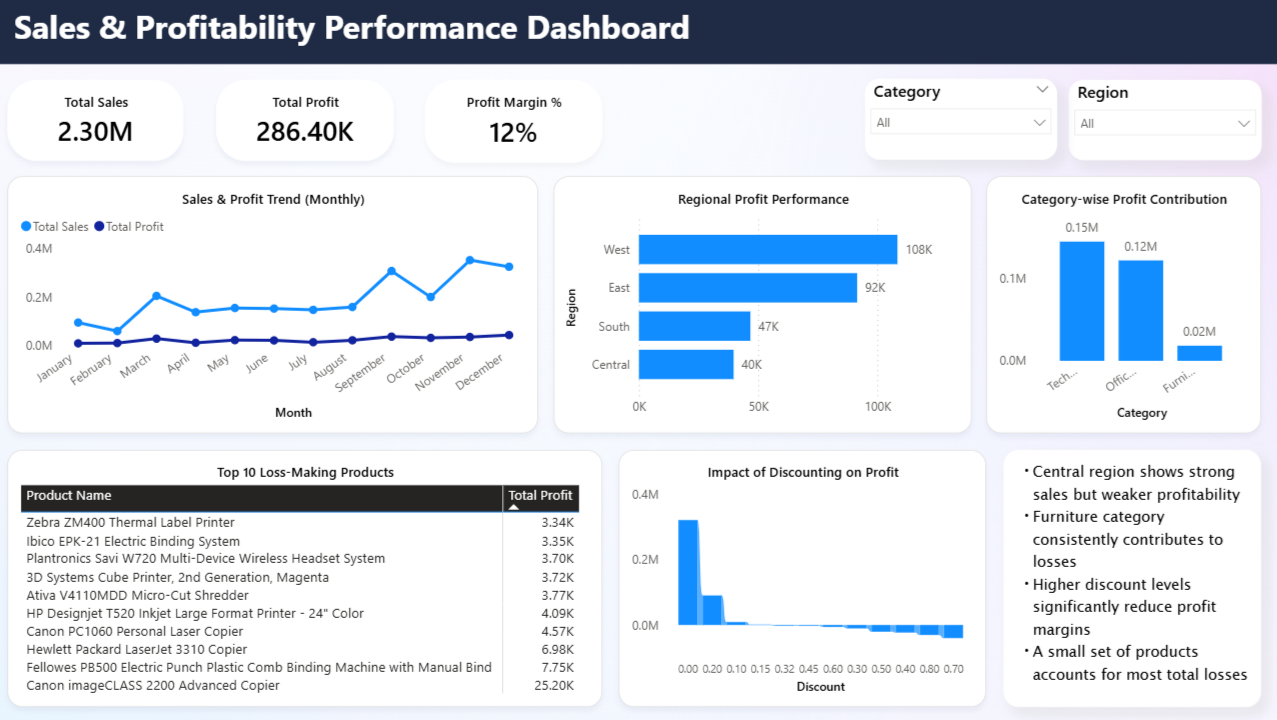

Layout of this report page (visuals, bound fields, positions):
{"tool":"powerbi","page":{"name":"sales_profitability_dashboard","canvas":[1280,720],"ordinal":0},"visuals":[{"type":"card","title":"Total Sales","fields":{"Values":["clean_superstore.Total Sales"]},"box":[16.2,79.6,175.4,80.9],"z":0},{"type":"card","title":"Total Profit","fields":{"Values":["clean_superstore.Total Profit"]},"box":[223.9,79.6,176.6,80.9],"z":1000},{"type":"card","title":"Profit Margin %","fields":{"Values":["clean_superstore.Profit Margin %"]},"box":[431.7,79.6,176.6,82.1],"z":2000},{"type":"lineChart","title":"Sales & Profit Trend (Monthly)","fields":{"Category":["clean_superstore.Order Date.Variation.Date Hierarchy.Month"],"Y":["clean_superstore.Total Sales","clean_superstore.Total Profit"]},"box":[16,176,528,256],"z":3000},{"type":"clusteredBarChart","title":"Regional Profit Performance","fields":{"Category":["clean_superstore.Region","clean_superstore.Sales"],"Y":["clean_superstore.Total Profit"]},"box":[560,176,416,256],"z":4000},{"type":"columnChart","title":"Category-wise Profit Contribution","fields":{"Category":["clean_superstore.Category"],"Y":["clean_superstore.Total Profit"]},"box":[990.2,175.4,273.7,256.3],"z":5000},{"type":"tableEx","title":"Top 10 Loss-Making Products","fields":{"Values":["clean_superstore.Product Name","clean_superstore.Total Profit"]},"box":[16,448,592,256],"z":6000},{"type":"columnChart","title":"Impact of Discounting on Profit","fields":{"Category":["clean_superstore.Discount"],"Y":["clean_superstore.Total Profit"]},"box":[624.5,447.8,365.7,256.3],"z":7000},{"type":"textbox","box":[1007.6,447.8,256.3,256.3],"z":8000},{"type":"slicer","fields":{"Values":["clean_superstore.Region"]},"box":[1072,80,192,80],"z":9000},{"type":"slicer","fields":{"Values":["clean_superstore.Category"]},"box":[869.5,78.4,191.6,80.9],"z":10000},{"type":"textbox","box":[0,0,1280,64],"z":11000}]}

Visuals, with their boxes in screenshot pixels (x1, y1, x2, y2), scaled from the page's 1280x720 canvas onto the 1277x720 screenshot:
"Total Sales" card: 16, 80, 191, 160
"Total Profit" card: 223, 80, 400, 160
"Profit Margin %" card: 431, 80, 607, 162
"Sales & Profit Trend (Monthly)" lineChart: 16, 176, 543, 432
"Regional Profit Performance" clusteredBarChart: 559, 176, 974, 432
"Category-wise Profit Contribution" columnChart: 988, 175, 1261, 432
"Top 10 Loss-Making Products" tableEx: 16, 448, 607, 704
"Impact of Discounting on Profit" columnChart: 623, 448, 988, 704
textbox: 1005, 448, 1261, 704
slicer - clean_superstore.Region: 1069, 80, 1261, 160
slicer - clean_superstore.Category: 867, 78, 1059, 159
textbox: 0, 0, 1276, 64
